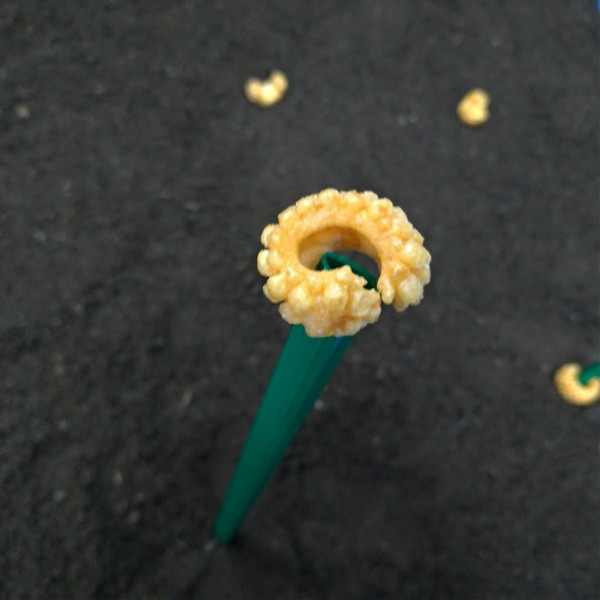eggs: (256, 178, 434, 341), (547, 359, 600, 414), (241, 69, 294, 113), (449, 86, 494, 133)
